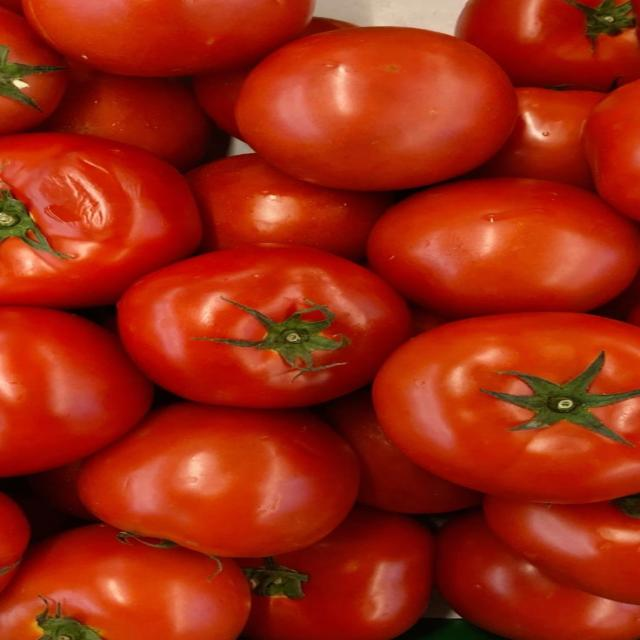tomato: (374, 313, 639, 503), (119, 245, 410, 408), (236, 27, 517, 190), (78, 403, 359, 556), (368, 178, 639, 318), (0, 133, 201, 307), (0, 525, 249, 639), (436, 513, 639, 639), (0, 307, 151, 476), (240, 507, 433, 639), (24, 0, 314, 75), (187, 154, 392, 260), (322, 389, 481, 513), (40, 69, 212, 170), (484, 497, 639, 604), (457, 0, 639, 90), (474, 88, 605, 189), (0, 7, 66, 135), (585, 81, 639, 220), (0, 476, 87, 543), (194, 66, 253, 139), (194, 66, 253, 138), (27, 460, 95, 520), (0, 493, 29, 591), (593, 273, 639, 319), (299, 17, 356, 37), (410, 305, 448, 334), (627, 296, 639, 326), (0, 0, 22, 14)
